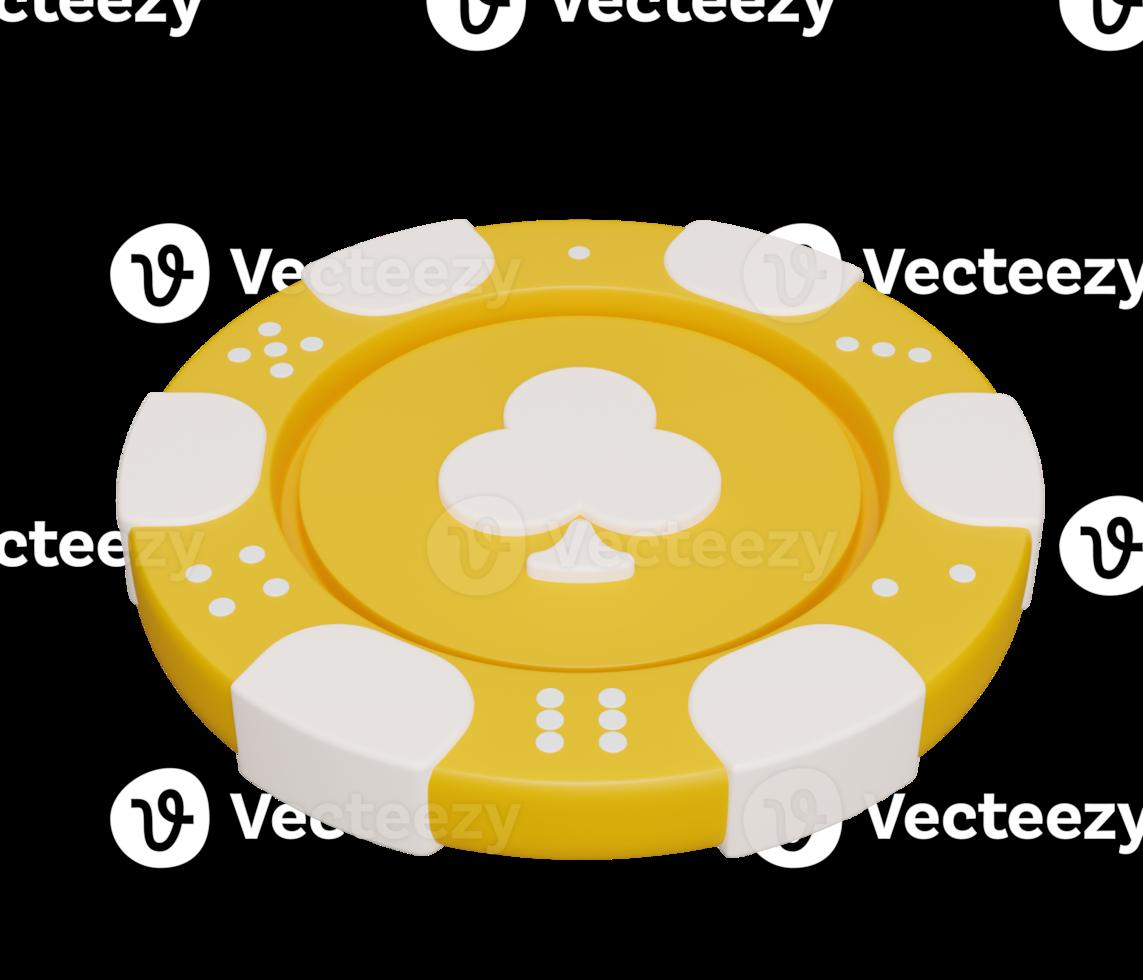chip-yellow: (116, 221, 1045, 857)
